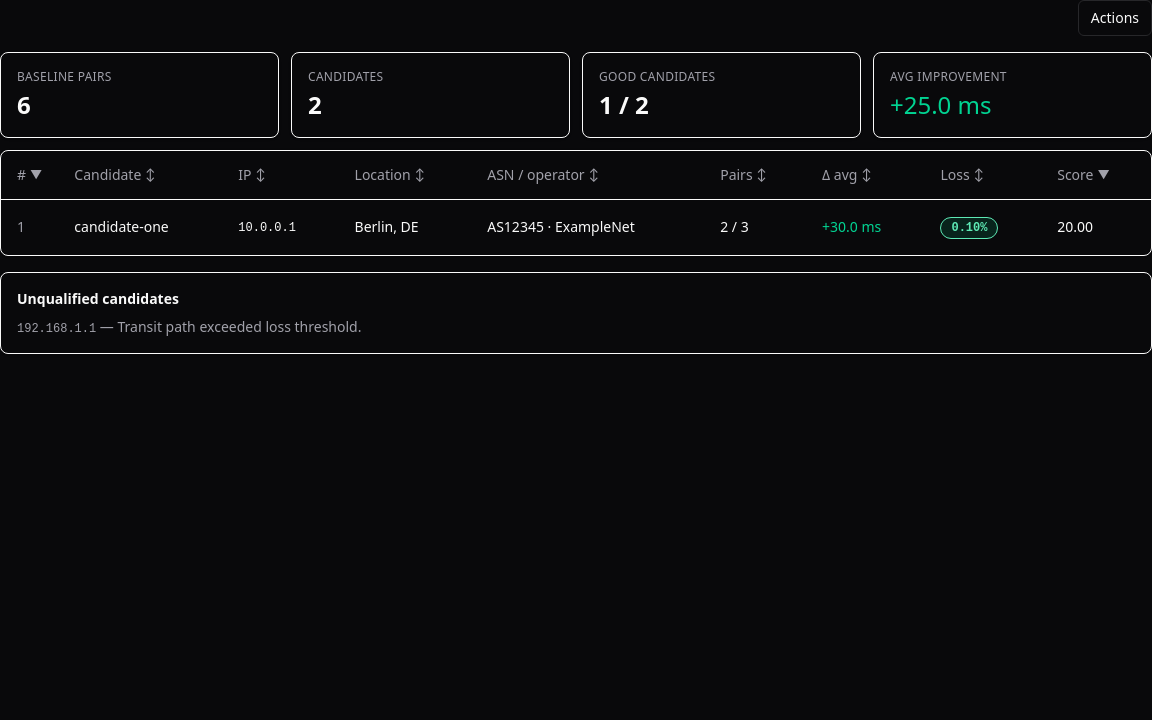
CandidatesTab — happy path › clicking a candidate row opens the dialog
Click the row with test id "candidate-row-10.0.0.1" at (576, 227), box [1,199,1151,254]
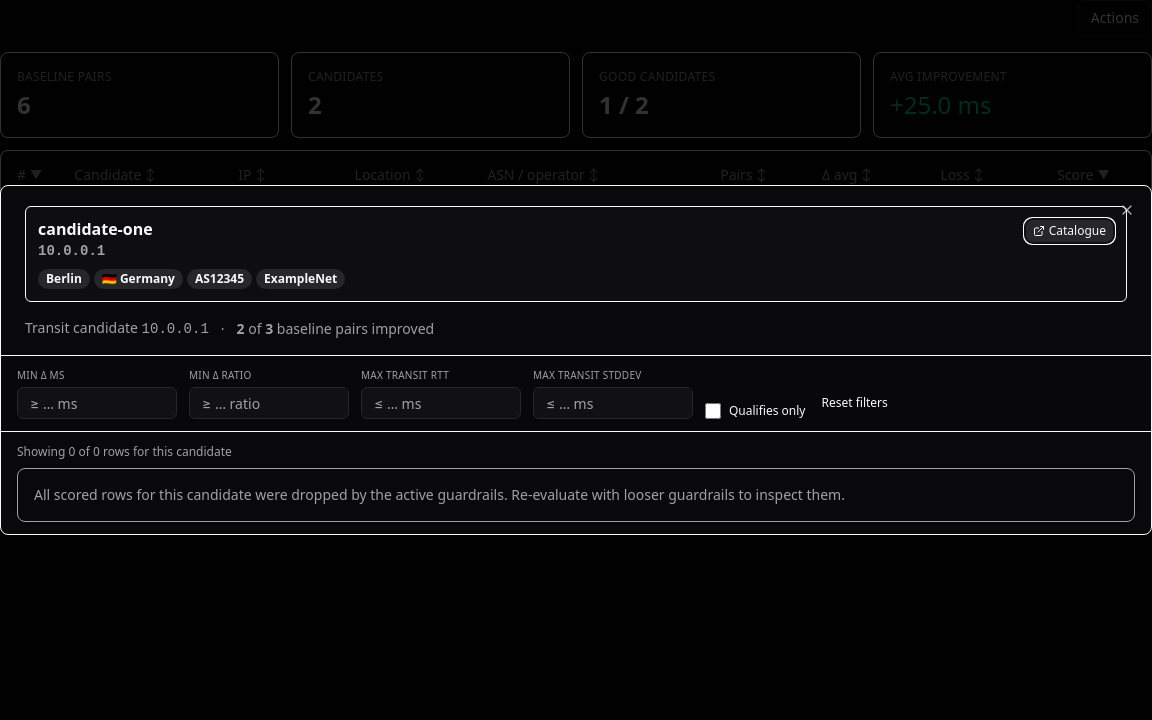
Expected: the element with test id "drilldown-body" is shown, [1,432,1151,534]
Expected: the number field with test id "filter-min-improvement-ms" is shown, [17,387,177,419]
